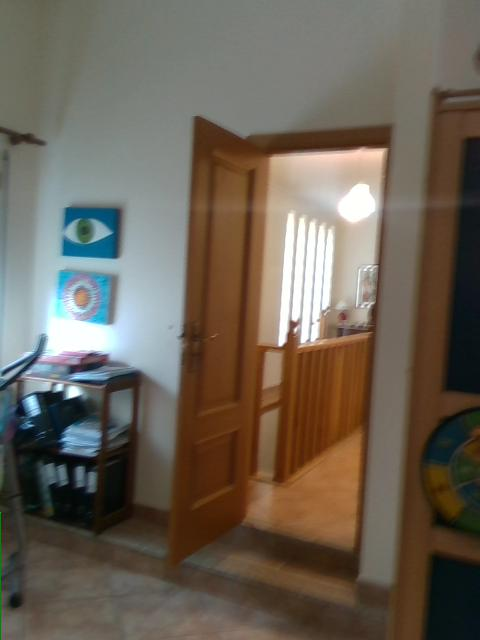open_door: (179, 122, 393, 585)
